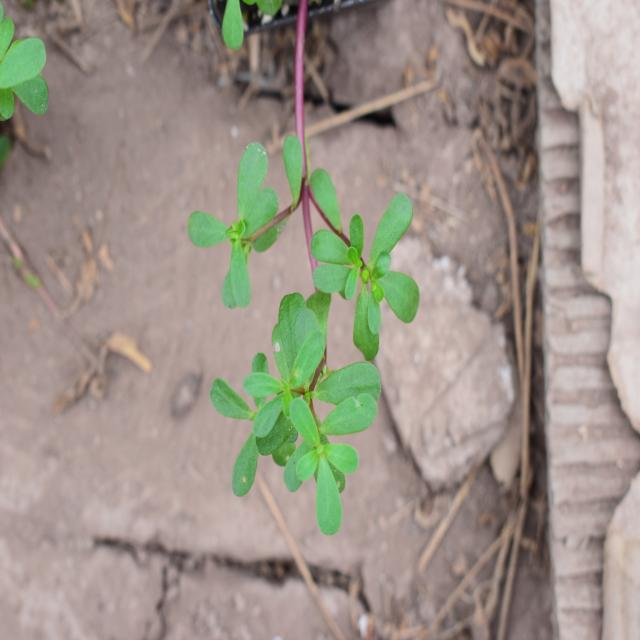purslane: (197, 136, 434, 525)
